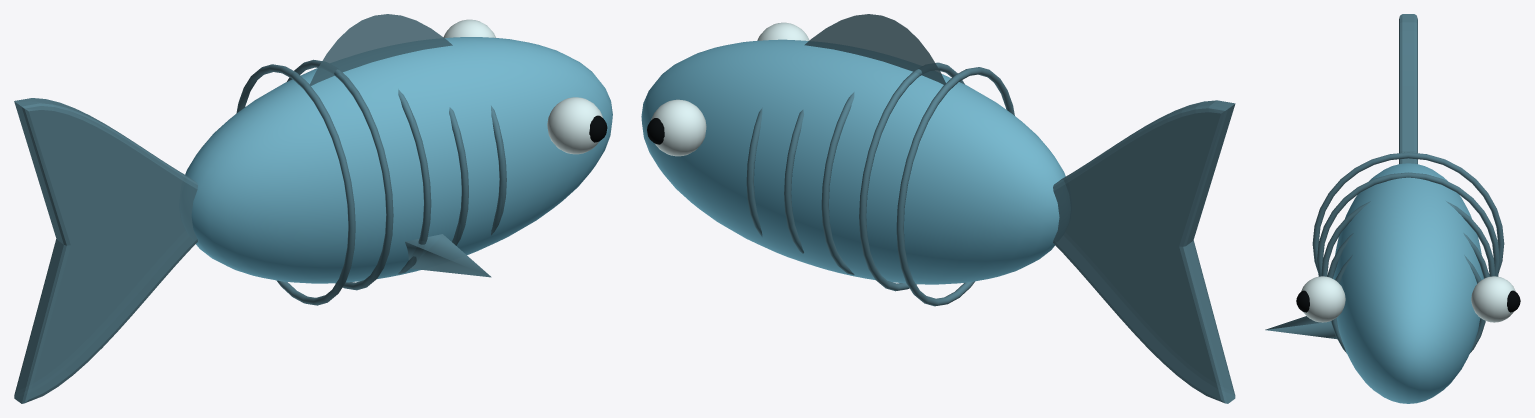
Rendered from fish.glb.
3 renders of one model, left to right at view 1: azimuth 30°, elevation 25°; view 2: azimuth 150°, elevation 25°; view 3: azimuth 270°, elevation 25°, orthographic. The views are drawn at different scales.
Visible parts, largest first — view 1: body, tail_fin, scale_band (×5), dorsal_fin, eye (×2), pectoral_fin; view 2: body, tail_fin, scale_band (×5), dorsal_fin, eye (×2); view 3: body, scale_band (×5), eye (×2), tail_fin, pectoral_fin, pupil (×2).
Part boxes in pixels (x1,y1,x2,y2): body: (185, 37, 612, 283); tail_fin: (14, 98, 197, 403); scale_band (×5): (236, 59, 506, 305); dorsal_fin: (309, 14, 452, 85); eye (×2): (443, 19, 602, 154); pectoral_fin: (405, 234, 491, 277); body: (641, 39, 1065, 284); tail_fin: (1053, 100, 1235, 403); scale_band (×5): (746, 62, 1014, 306); dorsal_fin: (804, 14, 945, 84); eye (×2): (651, 22, 809, 156); body: (1333, 163, 1483, 403); scale_band (×5): (1312, 152, 1504, 353); eye (×2): (1301, 276, 1515, 322); tail_fin: (1399, 14, 1417, 163); pectoral_fin: (1265, 316, 1336, 338); pupil (×2): (1296, 290, 1520, 312).
Size of the model in its own units: 3.21 by 1.56 by 1.49.
